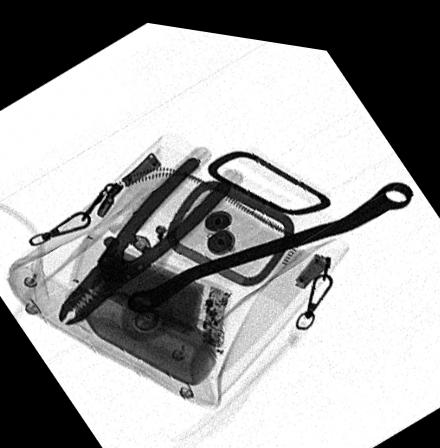Pliers: (56, 147, 234, 324)
Powerbank: (83, 240, 234, 342)
Wrench: (124, 169, 412, 310)
